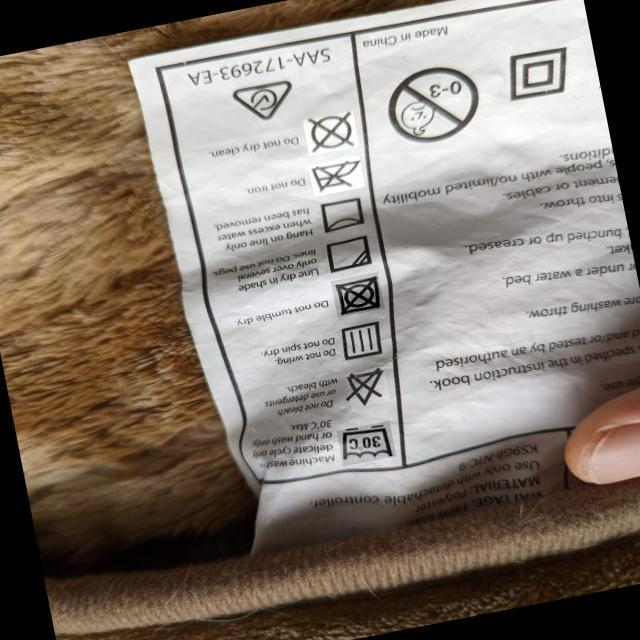30C: (342, 422, 396, 465)
DN_bleach: (345, 367, 387, 409)
DN_dry_clean: (308, 111, 355, 153)
DN_iron: (312, 158, 360, 193)
DN_tumble_dry: (334, 276, 385, 320)
drip_dry: (341, 319, 385, 364)
line_dry: (318, 195, 366, 234)
shade_dry: (325, 235, 374, 273)
